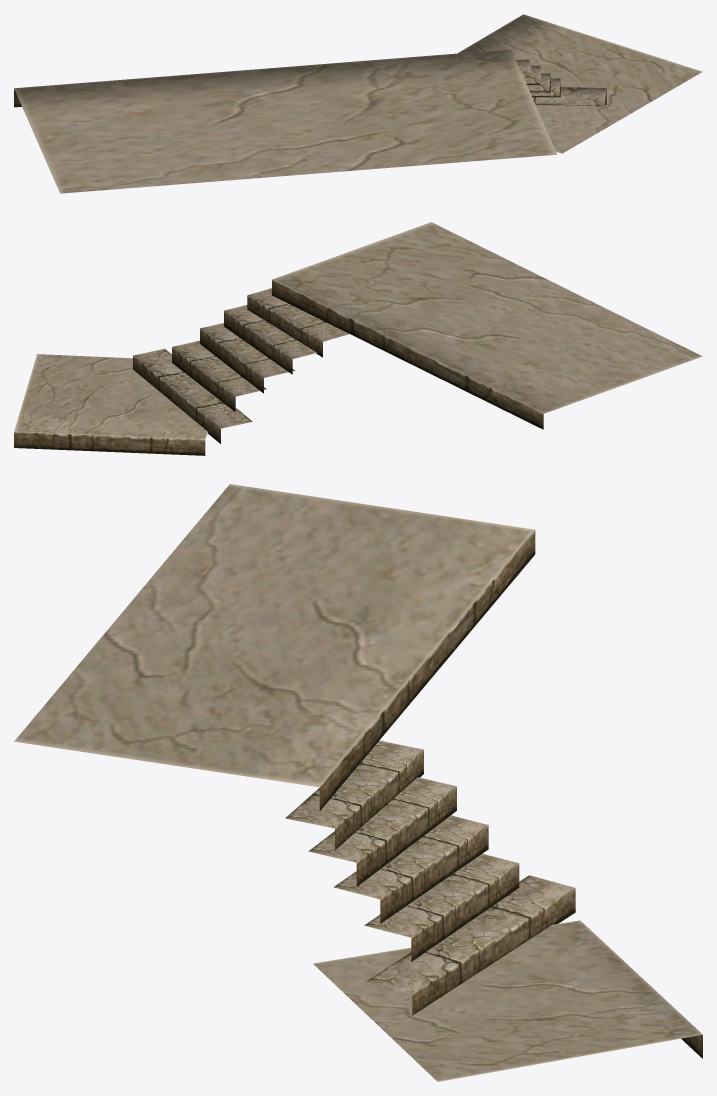
Rendered from HTOWN01_BAGENDSTEPS.fbx.
3 renders of one model, top to bottom at view 1: azimuth 30°, elevation 25°; view 2: azimuth 150°, elevation 25°; view 3: azimuth 270°, elevation 25°, orthographic. The views are drawn at different scales.
Visible parts, largest first — view 1: HTOWN01_BAGENDSTEPS; view 2: HTOWN01_BAGENDSTEPS; view 3: HTOWN01_BAGENDSTEPS.
Boxes of the visible parts, bbox=[...] form: HTOWN01_BAGENDSTEPS: bbox=[14, 14, 702, 193]; HTOWN01_BAGENDSTEPS: bbox=[14, 222, 702, 455]; HTOWN01_BAGENDSTEPS: bbox=[14, 484, 702, 1081].
Bounding box in the file's own units: 98851 × 17410 × 63708.
Materials: 2 (2 with a texture image).
